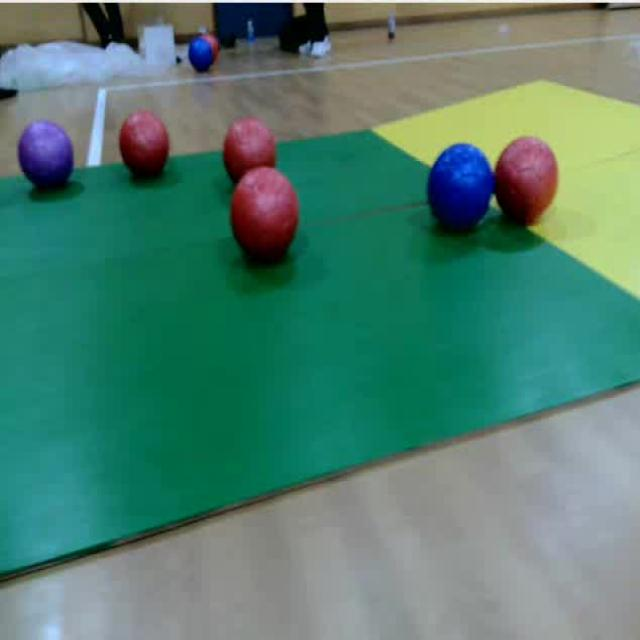blue_ball: (425, 143, 495, 235), (188, 34, 216, 74)
purple_ball: (17, 118, 78, 195)
red_ball: (230, 163, 299, 264), (492, 133, 559, 230), (221, 117, 279, 190), (118, 110, 170, 182)
